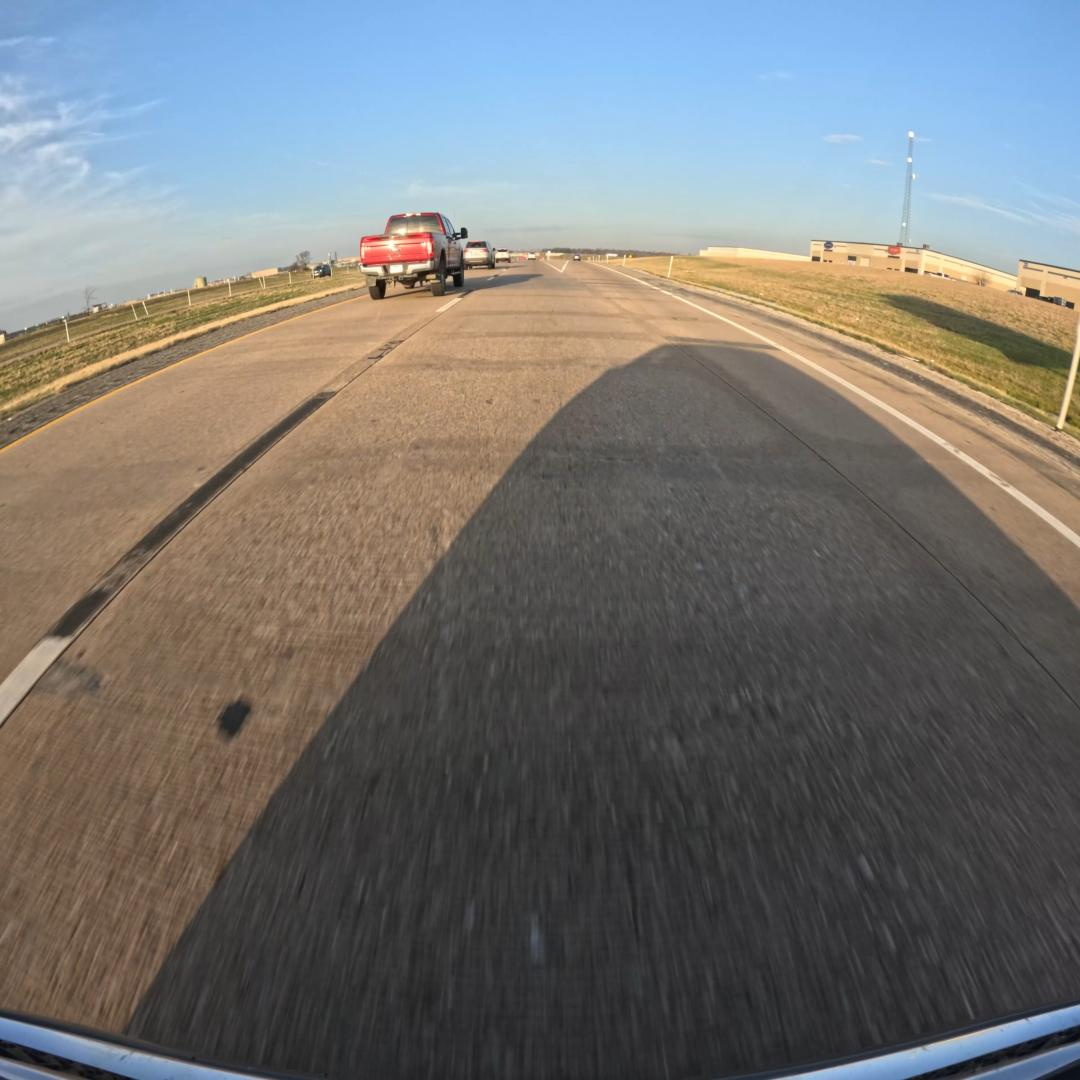lane0: (0, 265, 1080, 1080)
lane1: (0, 292, 469, 725)
